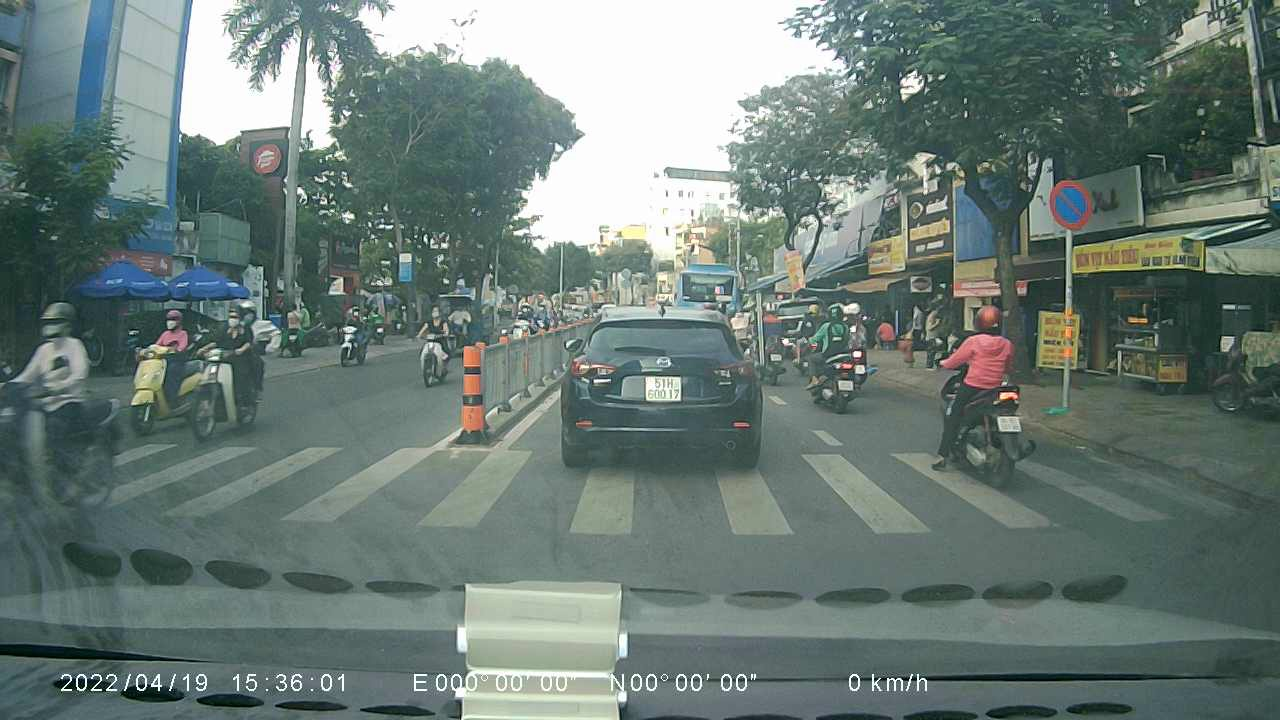Cam do xe: (1048, 177, 1092, 227)
